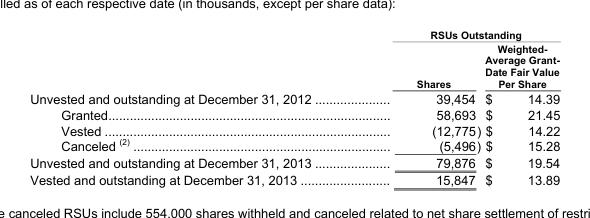table: (29, 29, 559, 187)
table column: (29, 29, 363, 187), (363, 29, 482, 187), (482, 29, 559, 187)
table column header: (29, 29, 559, 90)
table row: (29, 41, 559, 90), (29, 136, 559, 154), (29, 154, 559, 171), (29, 90, 559, 106), (29, 106, 559, 122), (29, 171, 559, 187), (29, 122, 559, 136), (29, 29, 559, 41)
table spanning cell: (363, 29, 559, 41)
